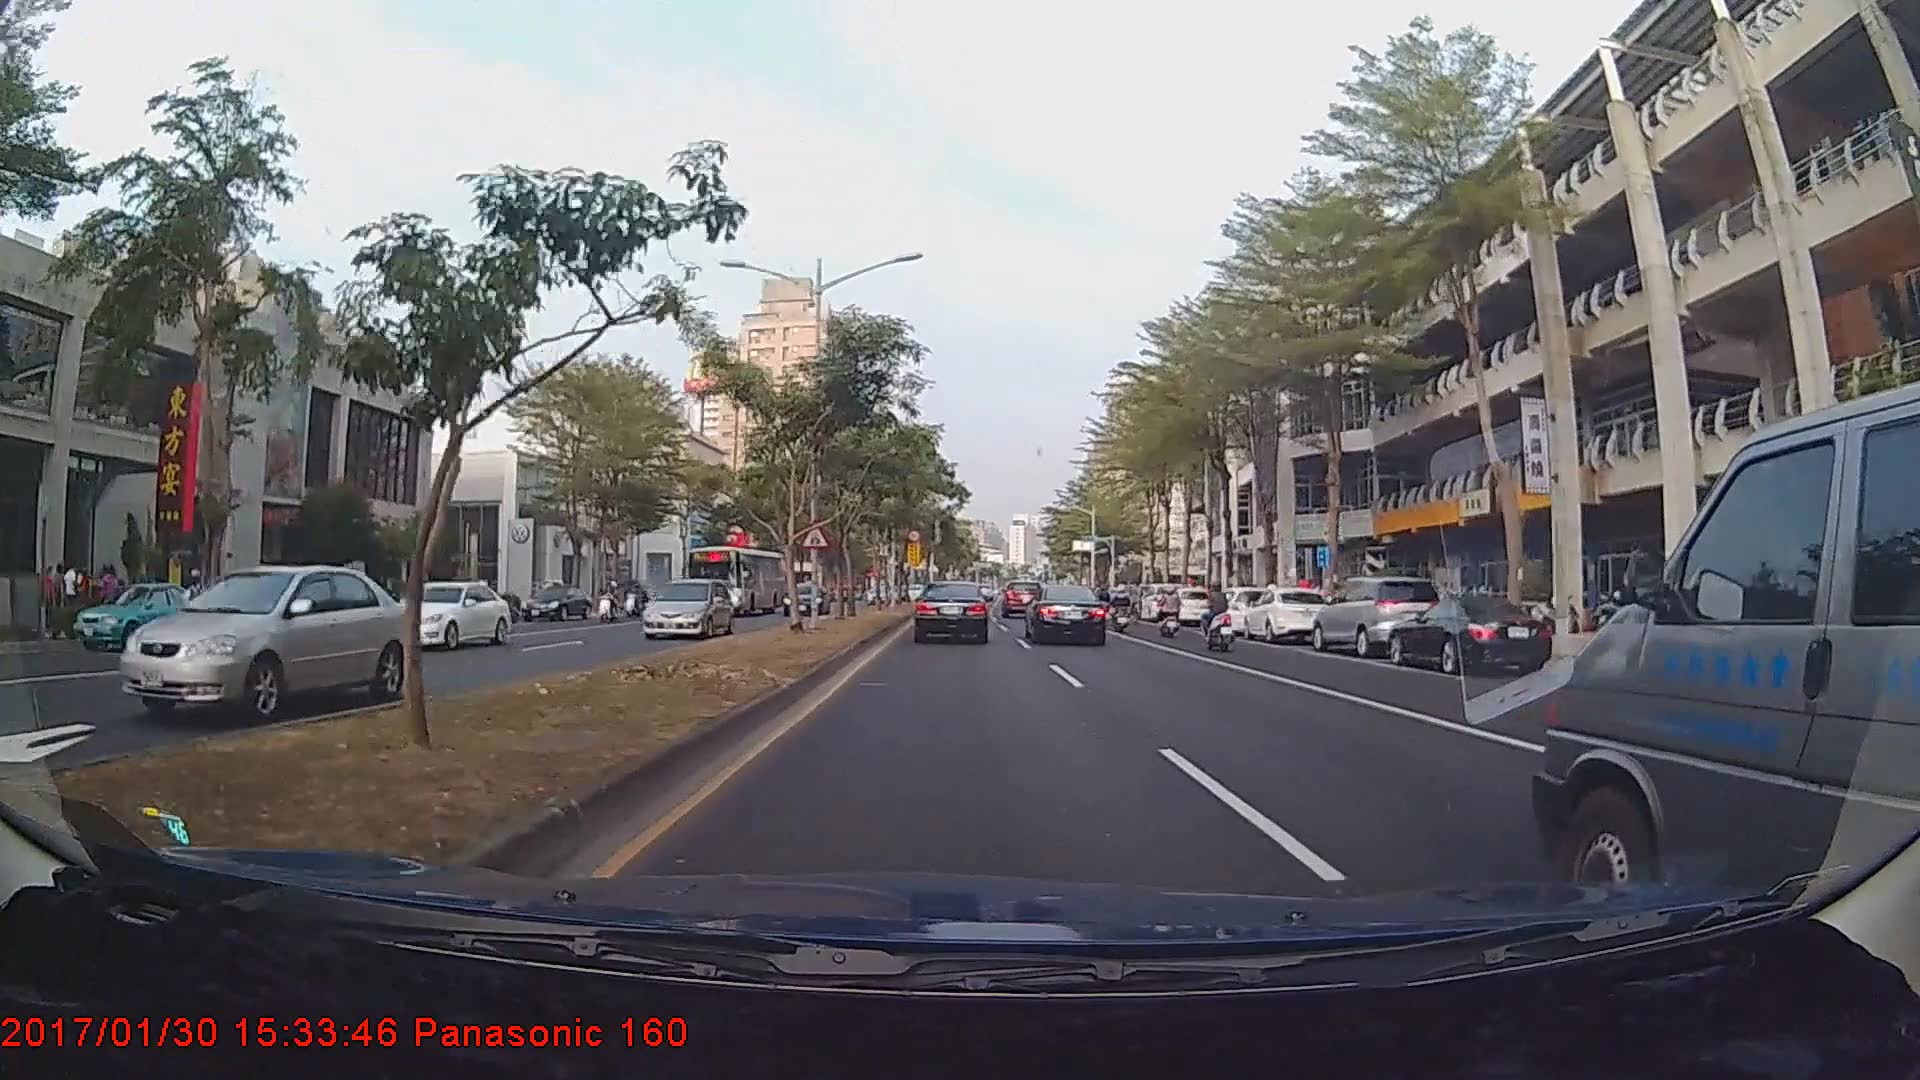rider: (1192, 582, 1244, 657), (1149, 586, 1194, 646), (592, 576, 628, 627), (1109, 586, 1134, 639)
vehicle: (1543, 399, 1913, 896), (117, 565, 409, 721), (1386, 596, 1557, 676), (1312, 572, 1449, 658), (373, 581, 510, 653), (72, 581, 209, 650), (689, 547, 784, 620), (641, 579, 734, 643), (1240, 586, 1335, 642), (1024, 584, 1109, 646), (912, 581, 991, 644), (1205, 586, 1277, 636), (1160, 587, 1213, 625), (1004, 576, 1046, 614), (780, 583, 827, 614)
